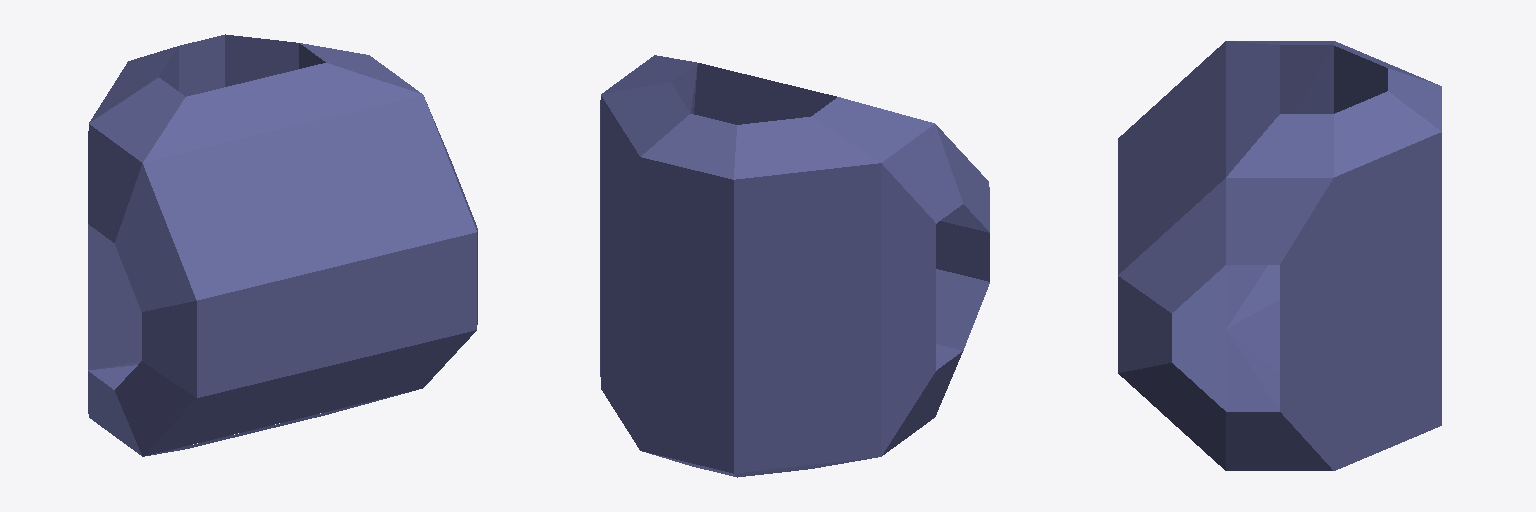
File: halfpipe2.obj
The picture shows the model from 3 angles: view 1: azimuth 30°, elevation 25°; view 2: azimuth 150°, elevation 25°; view 3: azimuth 270°, elevation 25°; orthographic projection.
Visible parts, largest first — view 1: Cube.001_Cube.003; view 2: Cube.001_Cube.003; view 3: Cube.001_Cube.003.
Part boxes in pixels (x1,y1,x2,y2): Cube.001_Cube.003: (88, 34, 477, 456); Cube.001_Cube.003: (600, 55, 989, 477); Cube.001_Cube.003: (1118, 41, 1441, 470).
Bounding box in the file's own units: 1.8 × 1.8 × 1.5.